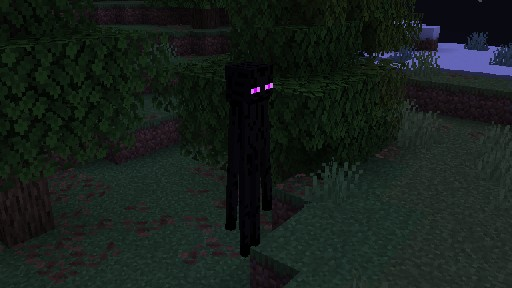enderman: (224, 60, 273, 258)
